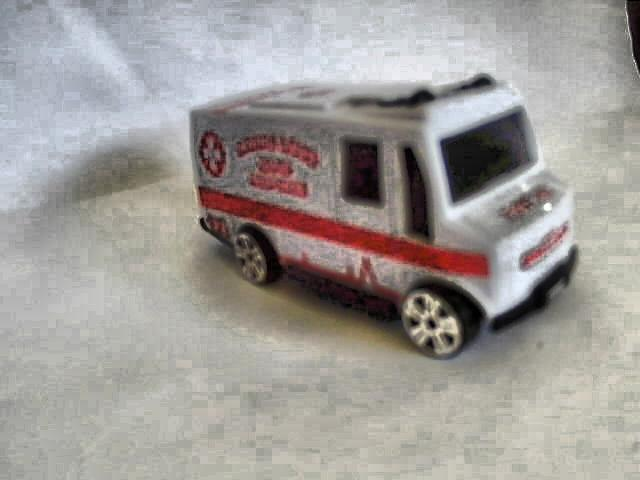ambulance: (189, 74, 577, 359)
